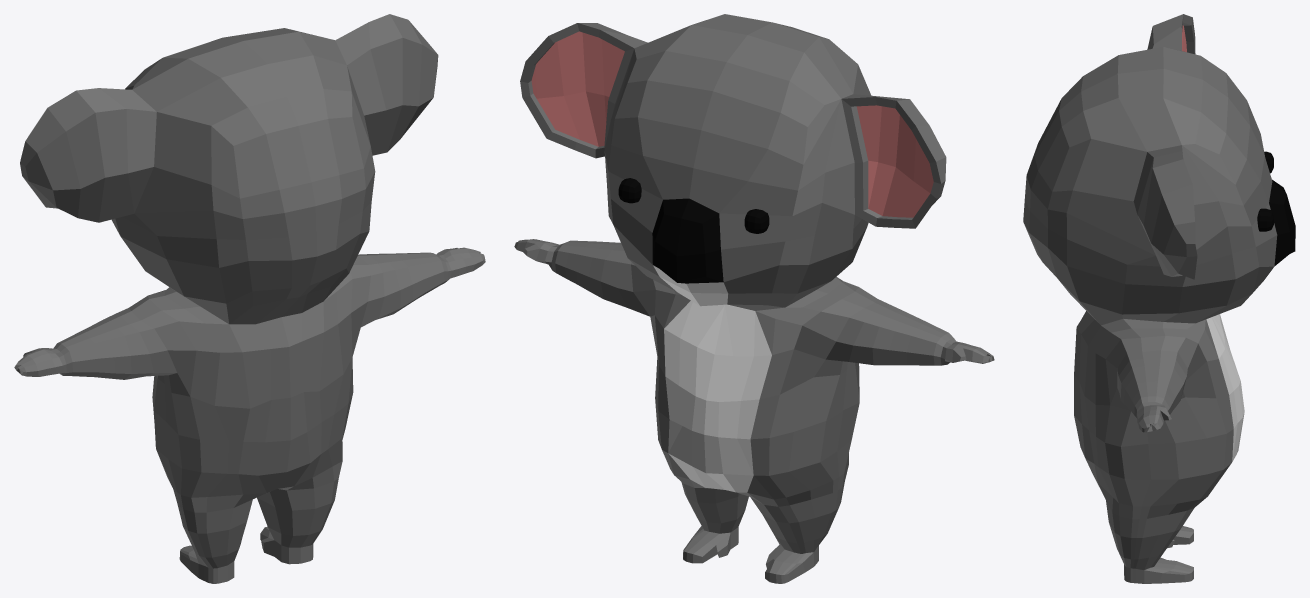
File: kokala.fbx
The picture shows the model from 3 angles, left to right: view 1: azimuth 30°, elevation 25°; view 2: azimuth 150°, elevation 25°; view 3: azimuth 270°, elevation 25°; orthographic projection. The views are drawn at different scales.
Visible parts, largest first — view 1: Cube; view 2: Cube; view 3: Cube.
Boxes of the visible parts, x1,y1,x2,y2 form: Cube: [14, 14, 485, 583]; Cube: [514, 14, 994, 583]; Cube: [1023, 14, 1295, 583].
Size of the model in its own units: 413 by 438 by 221.
